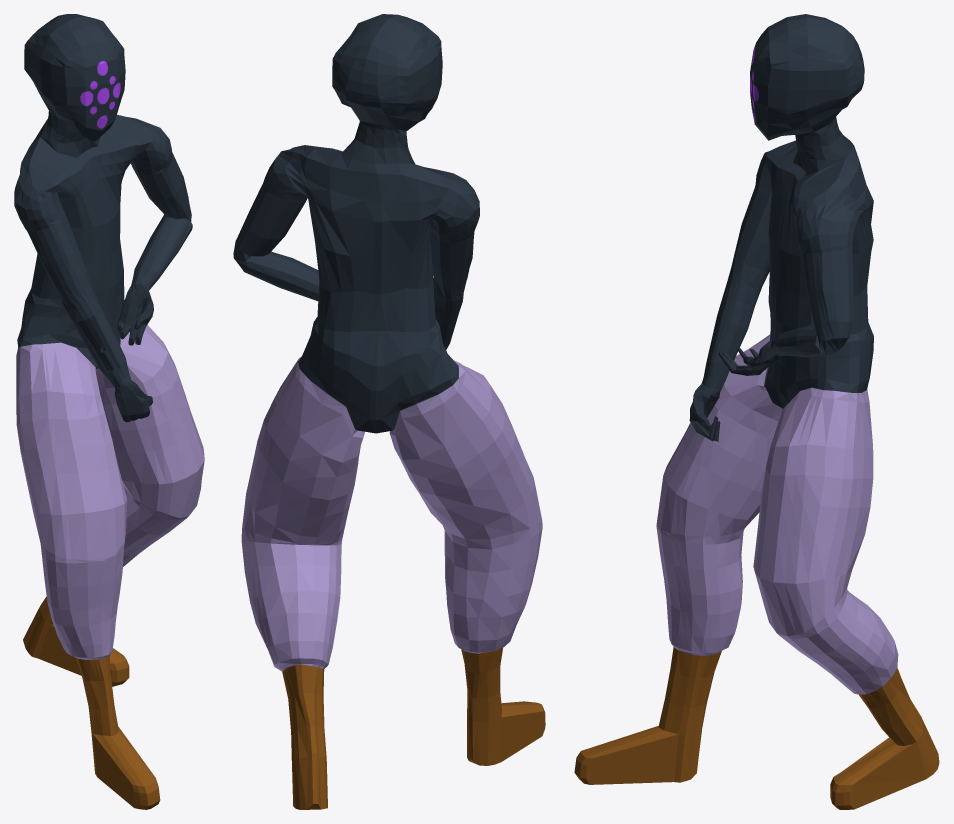
Rendered from Oracle_WF_000018.obj.
3 views of the same model, side by side, from view 1: azimuth 30°, elevation 25°; view 2: azimuth 150°, elevation 25°; view 3: azimuth 270°, elevation 25° (orthographic). The views are drawn at different scales.
Parts seen in each view (by area): view 1: Cube; view 2: Cube; view 3: Cube.
Boxes of the visible parts, <box> form: Cube: <box>14,14,204,809</box>; Cube: <box>233,14,545,809</box>; Cube: <box>574,14,939,809</box>.
Bounding box in the file's own units: 1.18 × 3.8 × 1.62.
